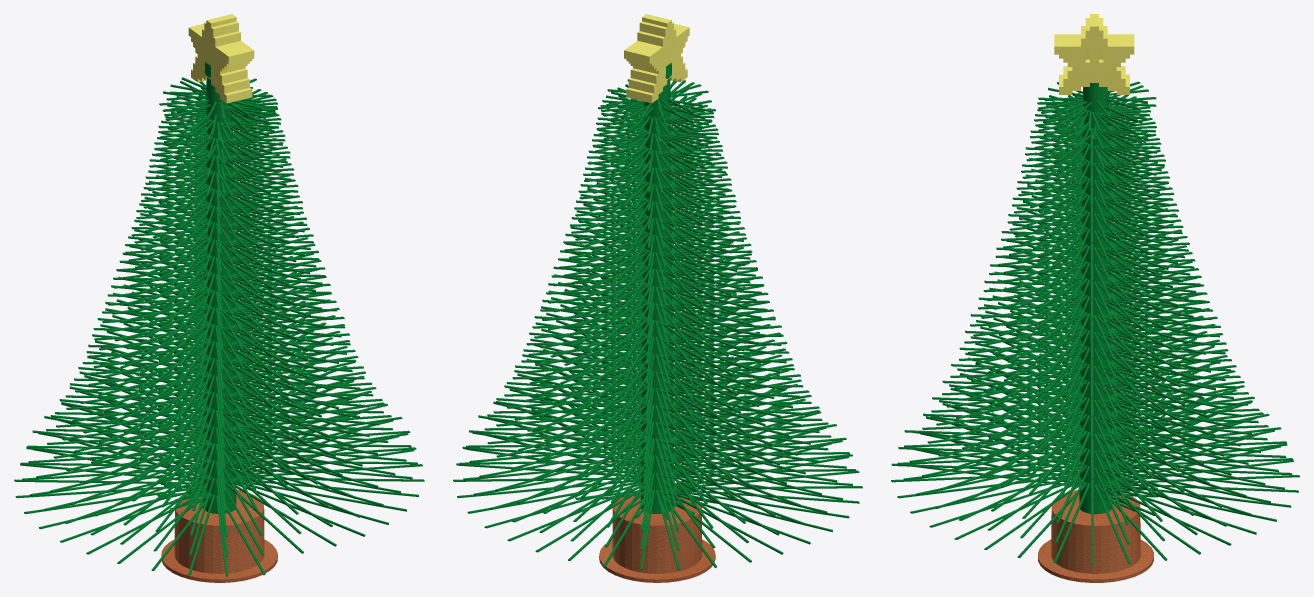
Rendered from tree.dae.
3 views of the same model, side by side, from view 1: azimuth 30°, elevation 25°; view 2: azimuth 150°, elevation 25°; view 3: azimuth 270°, elevation 25° (orthographic).
Visible parts, largest first — view 1: Tree, Big Pixel Star; view 2: Tree, Big Pixel Star; view 3: Tree, Big Pixel Star.
Part boxes in pixels (<box>): Tree: <box>14,61,424,582</box>; Big Pixel Star: <box>188,14,254,103</box>; Tree: <box>453,62,862,582</box>; Big Pixel Star: <box>624,14,689,103</box>; Tree: <box>891,81,1299,582</box>; Big Pixel Star: <box>1054,14,1134,94</box>.
Bounding box in the file's own units: 0.9581 × 0.9559 × 1.39.
Materials: 2 (2 with a texture image).
